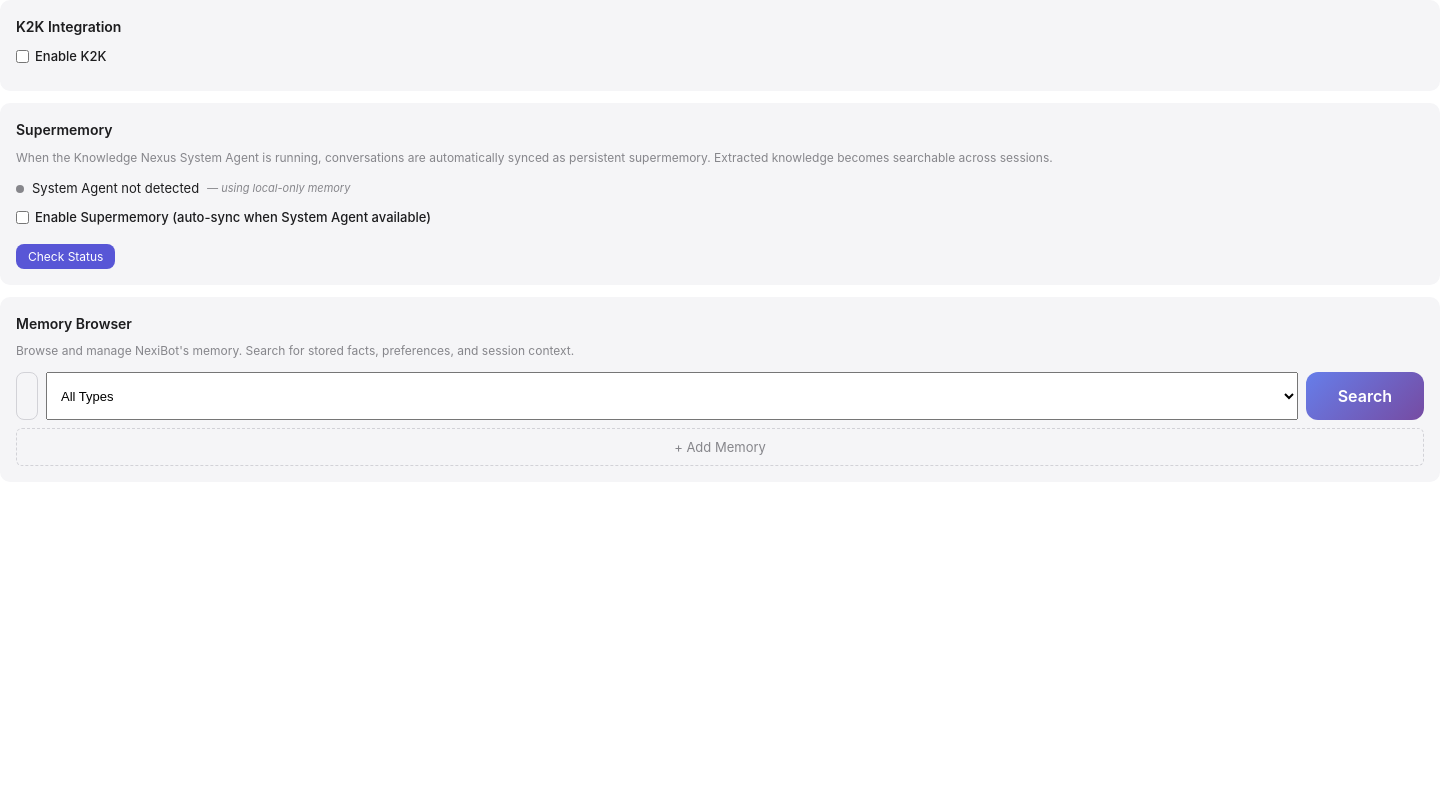
Test: Add memory form › Cancel button hides the add form
Click the button "+ Add Memory" at (720, 447), box [16,428,1424,466]
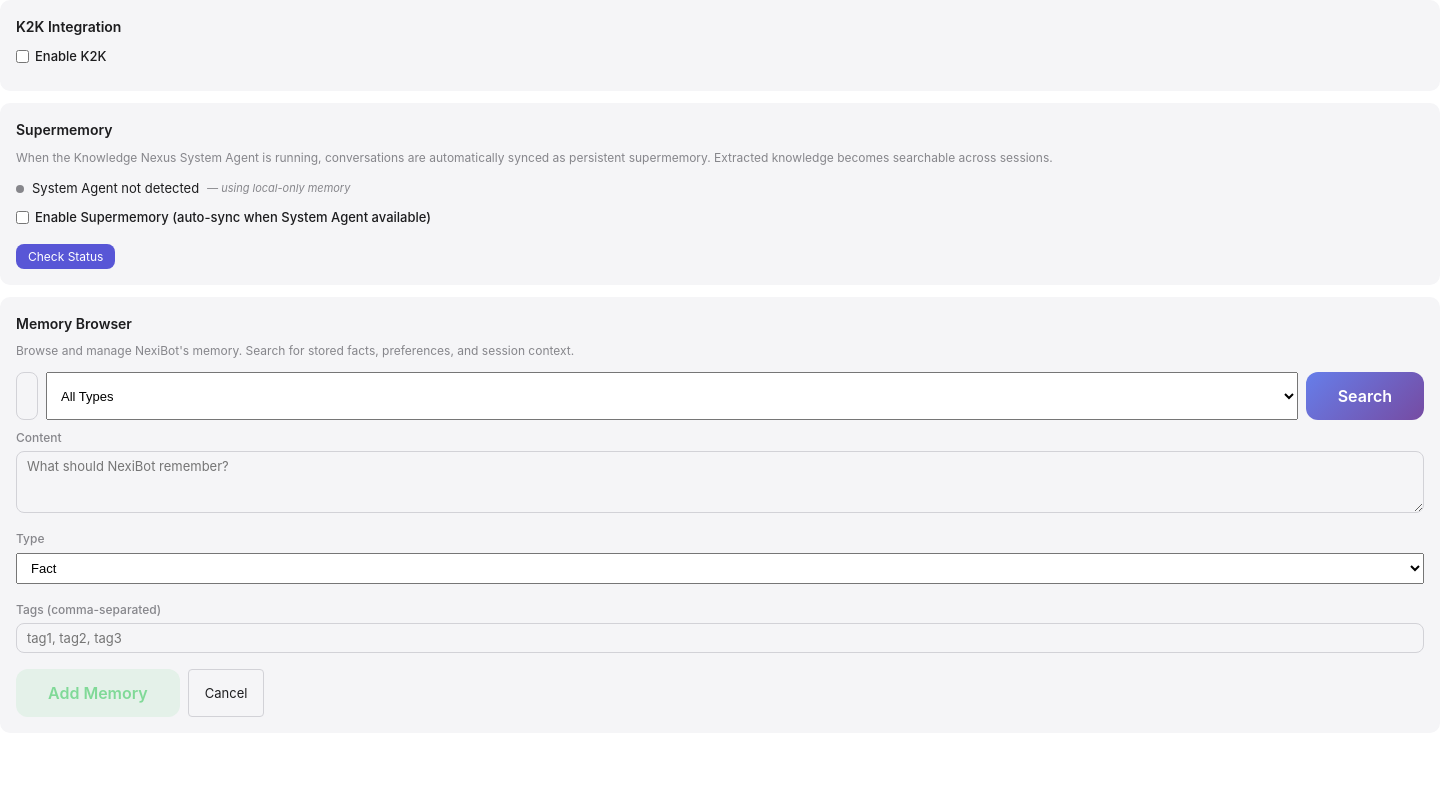
Expected: the text box with placeholder "What should NexiBot remember?" is shown, [16,451,1424,513]
Click the button "Cancel" at (226, 693), box [188,669,264,717]
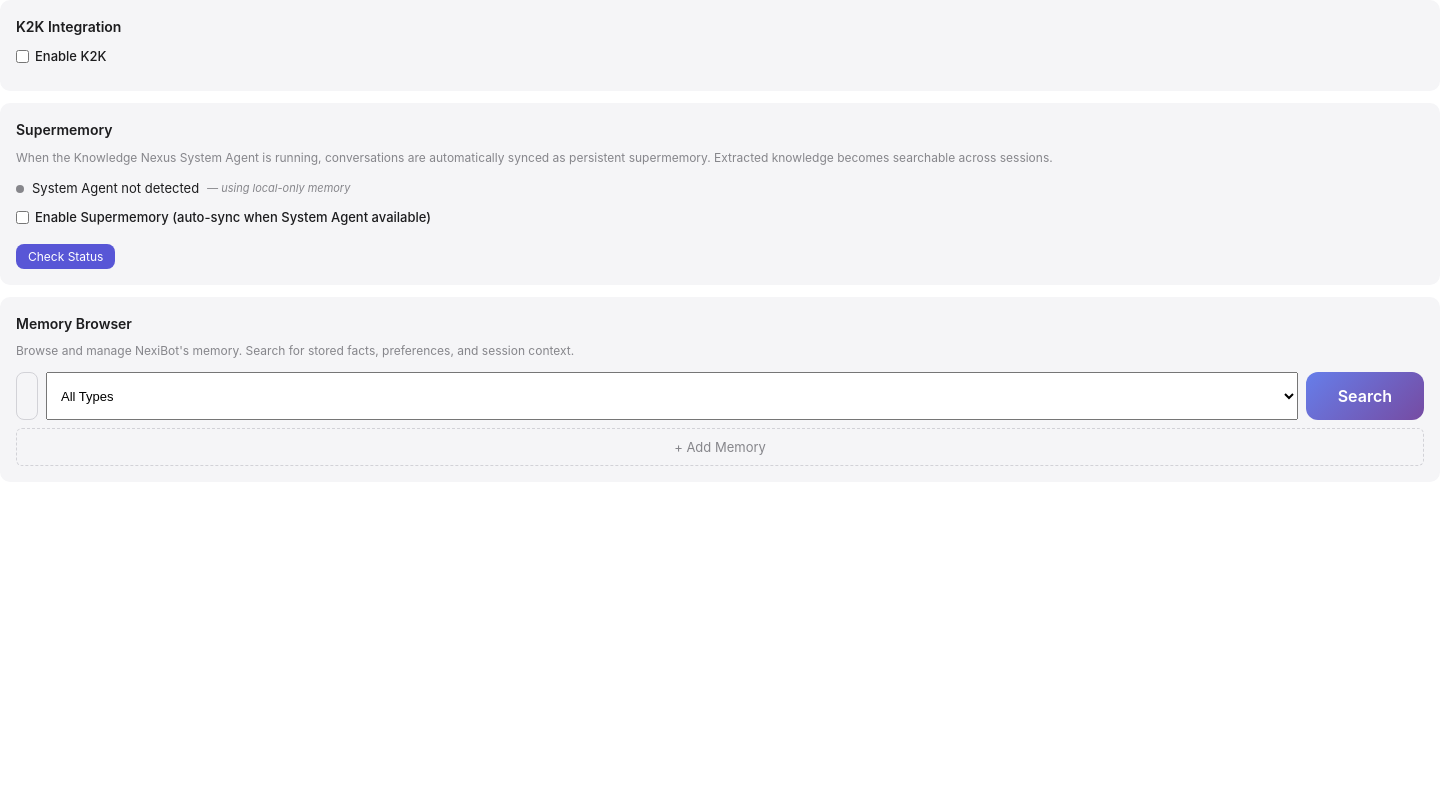
Expected: the field with placeholder "What should NexiBot remember" is not shown
Expected: the button "+ Add Memory" is shown, [16,428,1424,466]
